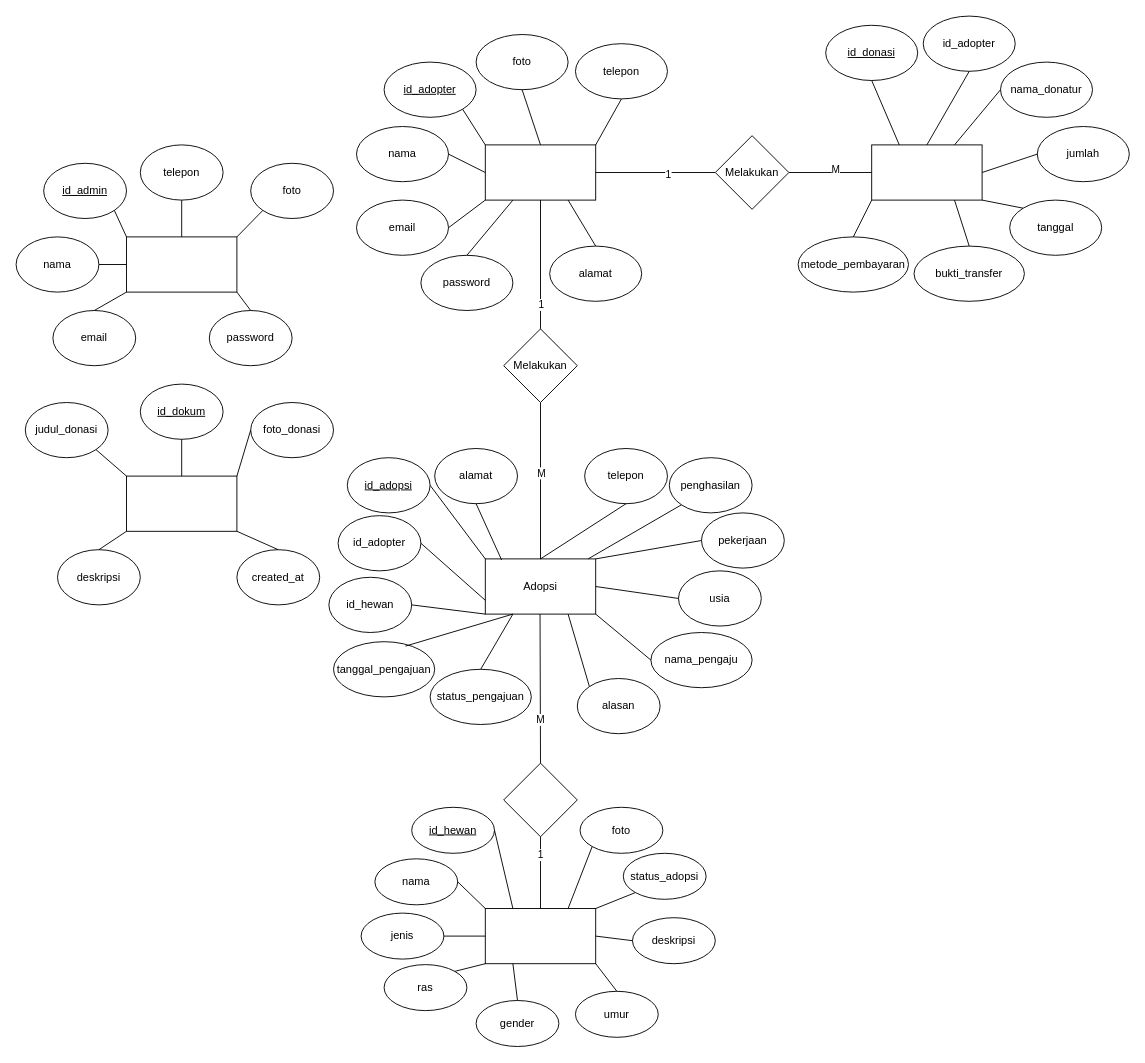
Image size: 1145x1063. Some labels were removed from this diagram. Here are the shapes that lost their labels. From the top down, the centre of each, then its label:
At pixel 540 172: "Adopter".
At pixel 926 172: "Donasi".
At pixel 181 264: "admin".
At pixel 181 503: "dokumentasi_donasi".
At pixel 540 799: "Memiliki".
At pixel 540 936: "Hewan".
